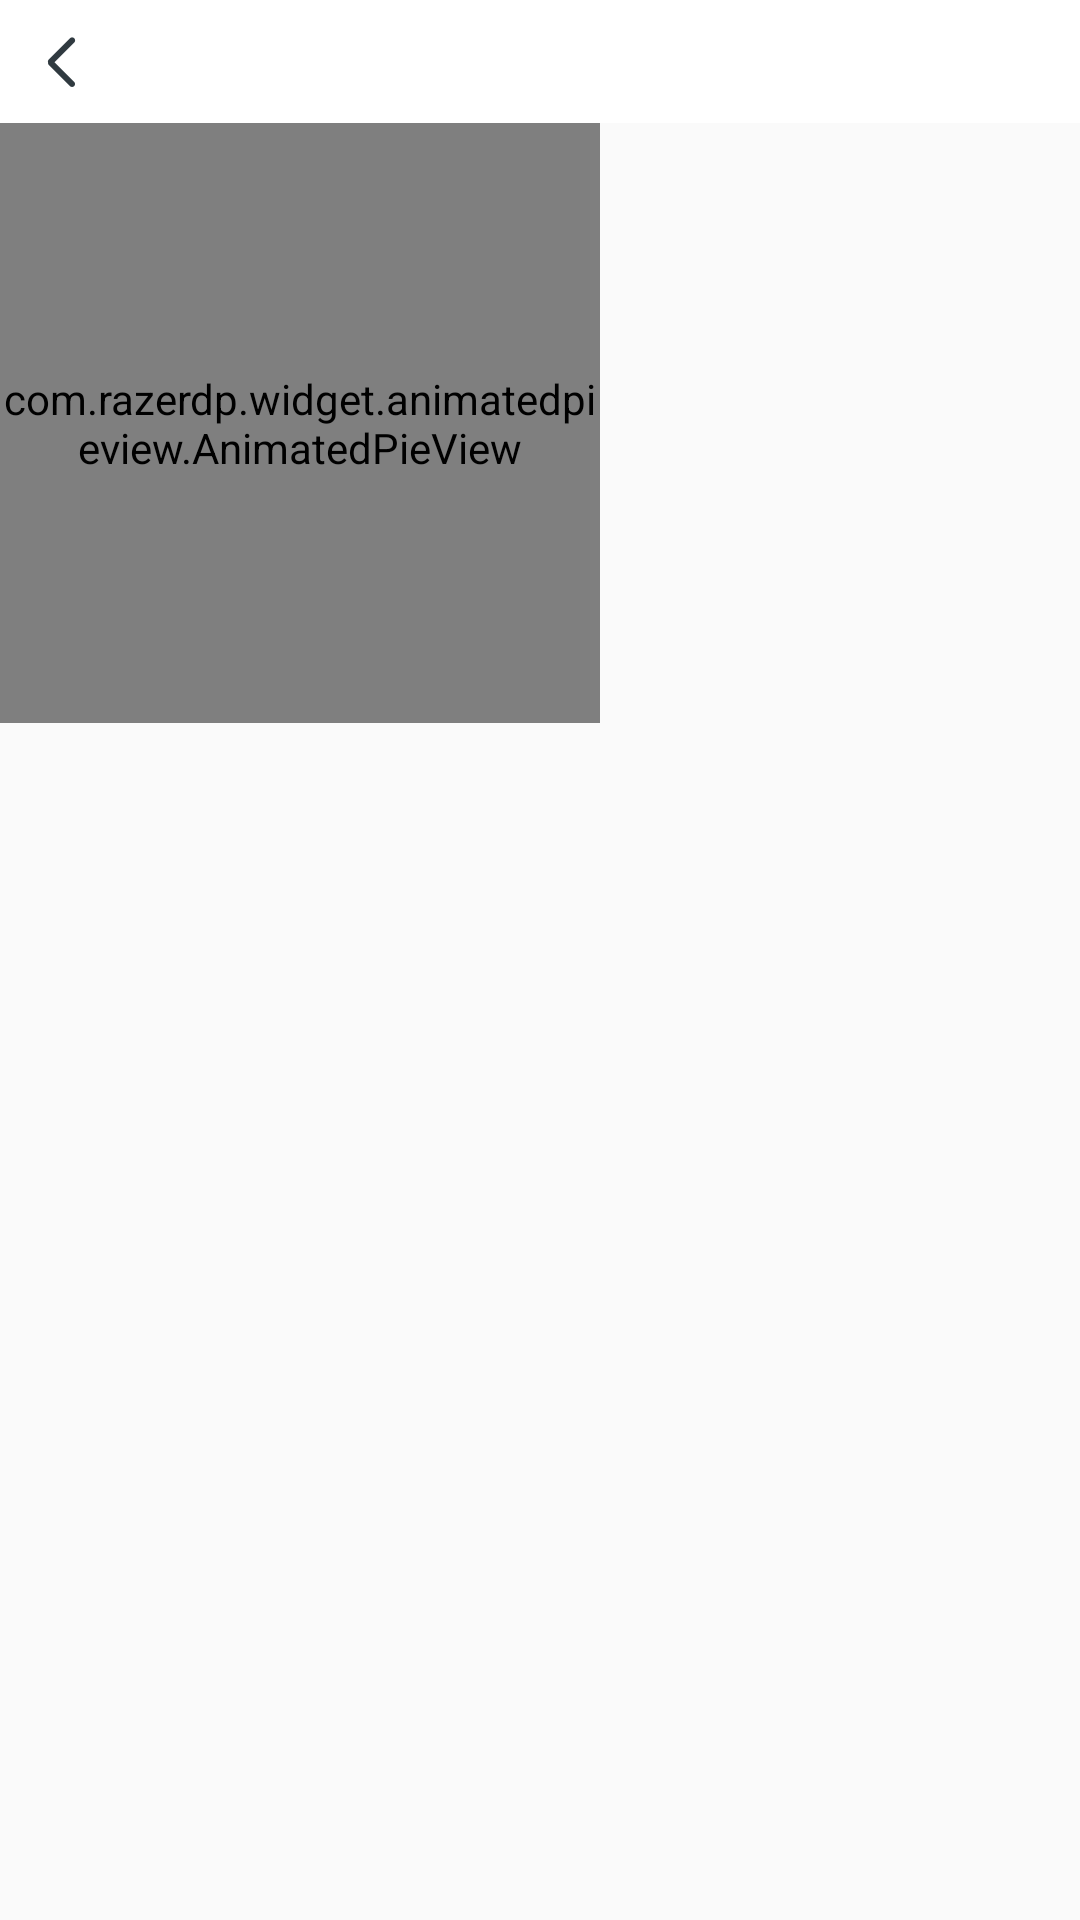

Named icons in this screenshot (1080×1920) and their centers, (x=x, y=y):
back: (x=61, y=62)
